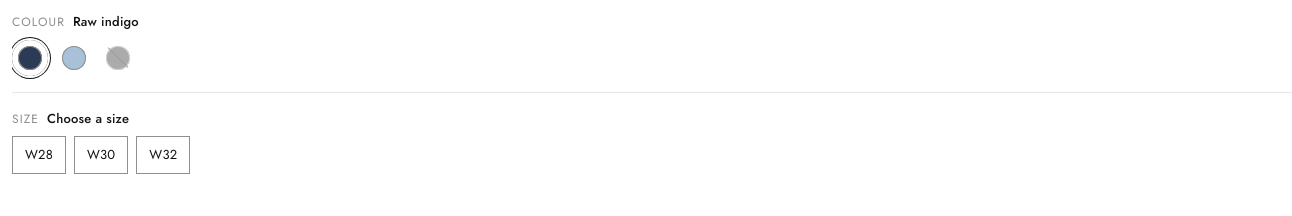
Test case: ColorPicker › offers only the sizes the selected colour actually carries
This screenshot has width=1292, height=216.
Click the button named "Light wash" at [74, 58], box [56,40,92,76]
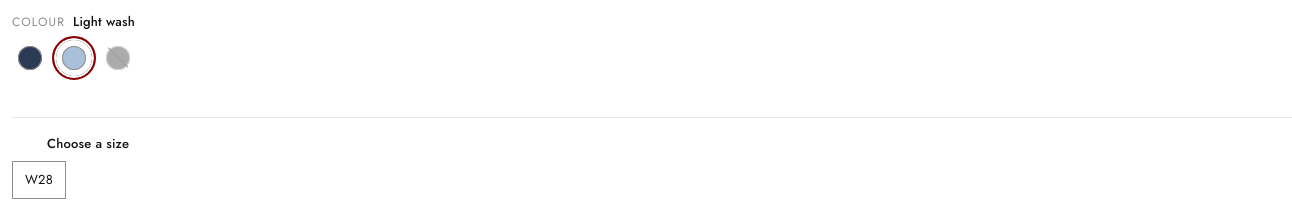
expect the button "W28" is shown: met, box [12,161,66,199]
expect the button "W32" is gone: met
